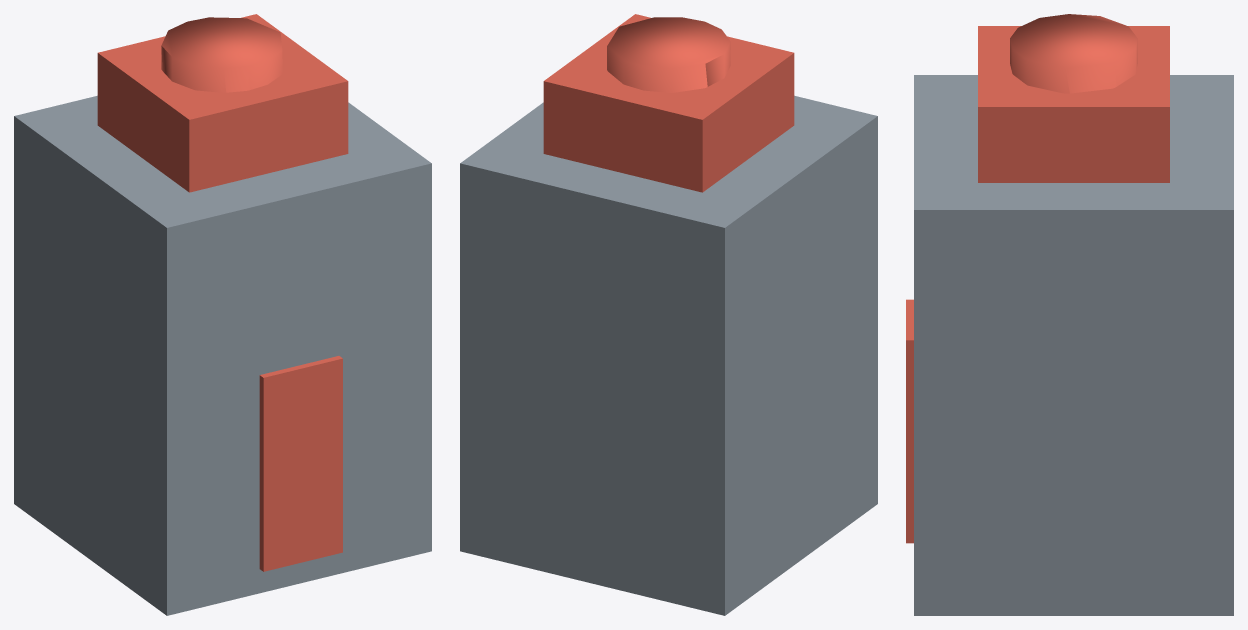
File: SU_Radar_LOD1.glb
The picture shows the model from 3 angles, left to right: view 1: azimuth 30°, elevation 25°; view 2: azimuth 150°, elevation 25°; view 3: azimuth 270°, elevation 25°; orthographic projection. The views are drawn at different scales.
Visible parts, largest first — view 1: EntranceGate; view 2: EntranceGate; view 3: EntranceGate.
Part boxes in pixels (x1,y1,x2,y2): EntranceGate: [14, 14, 431, 615]; EntranceGate: [460, 14, 877, 615]; EntranceGate: [906, 14, 1233, 615].
Bounding box in the file's own units: 400 × 700 × 410.
